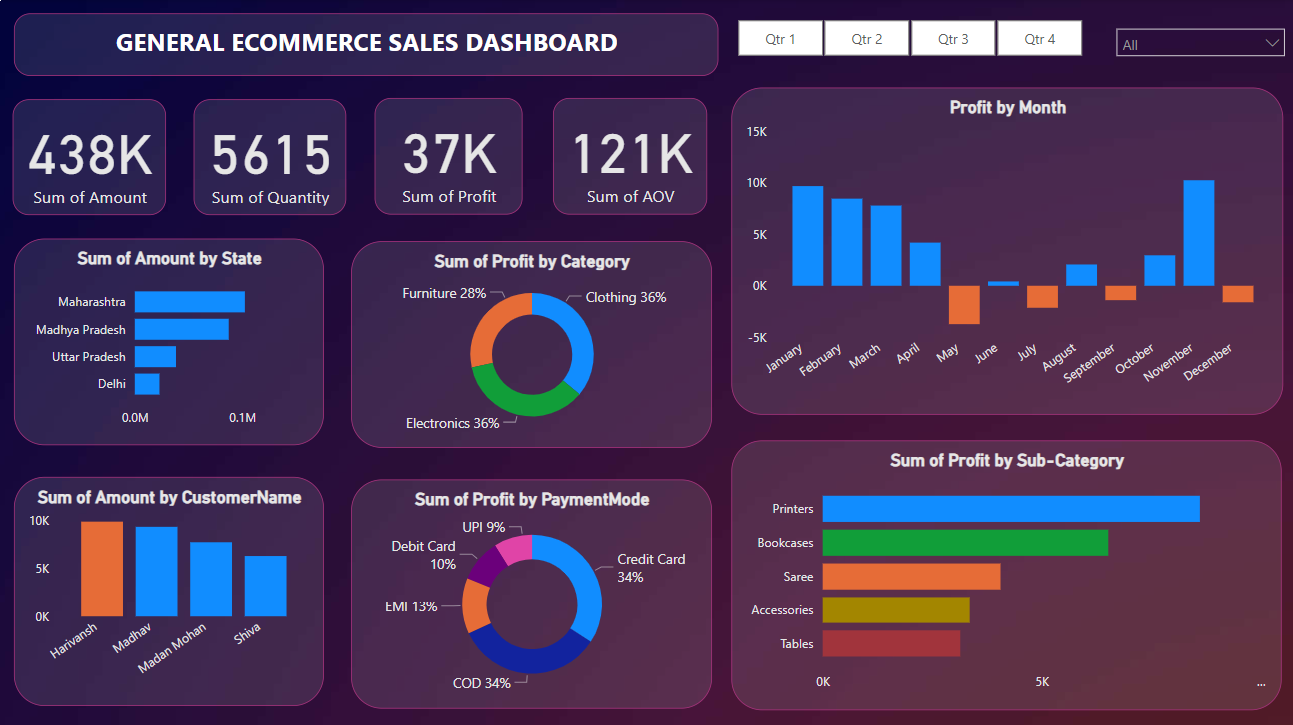

This screenshot's page, from the dashboard's own definition file:
{"tool":"powerbi","page":{"name":"Page 1","canvas":[1280,720],"ordinal":0},"visuals":[{"type":"textbox","box":[16.6,14.1,691.1,61.3],"z":0},{"type":"columnChart","title":"Profit by Month","fields":{"Category":["Orders.Order Date.Variation.Date Hierarchy.Month"],"Y":["Details.Profit"]},"box":[720.5,86.6,541.5,321.4],"z":1000},{"type":"barChart","fields":{"Category":["Details.Sub-Category"],"Y":["Details.Profit"]},"box":[720.5,432.9,540,265.6],"z":2000},{"type":"donutChart","fields":{"Category":["Details.Category"],"Y":["Details.Profit"]},"box":[347.5,237.6,353.9,203.1],"z":3000},{"type":"donutChart","fields":{"Y":["Details.Profit"],"Category":["Details.PaymentMode"]},"box":[347.5,471.4,353.9,226.1],"z":4000},{"type":"card","fields":{"Values":["Details.Amount"]},"box":[14.9,97.9,150.7,113.7],"z":5000},{"type":"card","fields":{"Values":["Details.Quantity"]},"box":[192.5,97.9,149.5,113.7],"z":6000},{"type":"card","fields":{"Values":["Details.Profit"]},"box":[370.9,97.4,145.3,114.5],"z":7000},{"type":"card","fields":{"Values":["Details.AOV"]},"box":[545.5,97.4,151.1,114.5],"z":8000},{"type":"barChart","fields":{"Category":["Orders.State"],"Y":["Details.Amount"]},"box":[16.6,235.1,304,203.1],"z":9000},{"type":"columnChart","fields":{"Category":["Orders.CustomerName"],"Y":["Details.Amount"]},"box":[16.6,468.8,304,226.1],"z":10000},{"type":"slicer","fields":{"Values":["Orders.Order Date.Variation.Date Hierarchy.Quarter"]},"box":[701.4,14.1,387.1,48.5],"z":11000},{"type":"slicer","fields":{"Values":["Orders.State"]},"box":[1088.4,19.2,185.2,67.7],"z":12000}]}

Visuals, with their boxes in screenshot pixels (x1, y1, x2, y2), scaled from the page's 1280x720 canvas onto the 1293x725 screenshot:
textbox: detection(17, 14, 715, 76)
"Profit by Month" columnChart: detection(728, 87, 1275, 411)
barChart - Details.Sub-Category x Details.Profit: detection(728, 436, 1273, 703)
donutChart - Details.Category x Details.Profit: detection(351, 239, 709, 444)
donutChart - Details.Profit x Details.PaymentMode: detection(351, 475, 709, 702)
card - Details.Amount: detection(15, 99, 167, 213)
card - Details.Quantity: detection(194, 99, 345, 213)
card - Details.Profit: detection(375, 98, 521, 213)
card - Details.AOV: detection(551, 98, 704, 213)
barChart - Orders.State x Details.Amount: detection(17, 237, 324, 441)
columnChart - Orders.CustomerName x Details.Amount: detection(17, 472, 324, 700)
slicer - Orders.Order Date.Variation.Date Hierarchy.Quarter: detection(709, 14, 1100, 63)
slicer - Orders.State: detection(1099, 19, 1287, 88)
